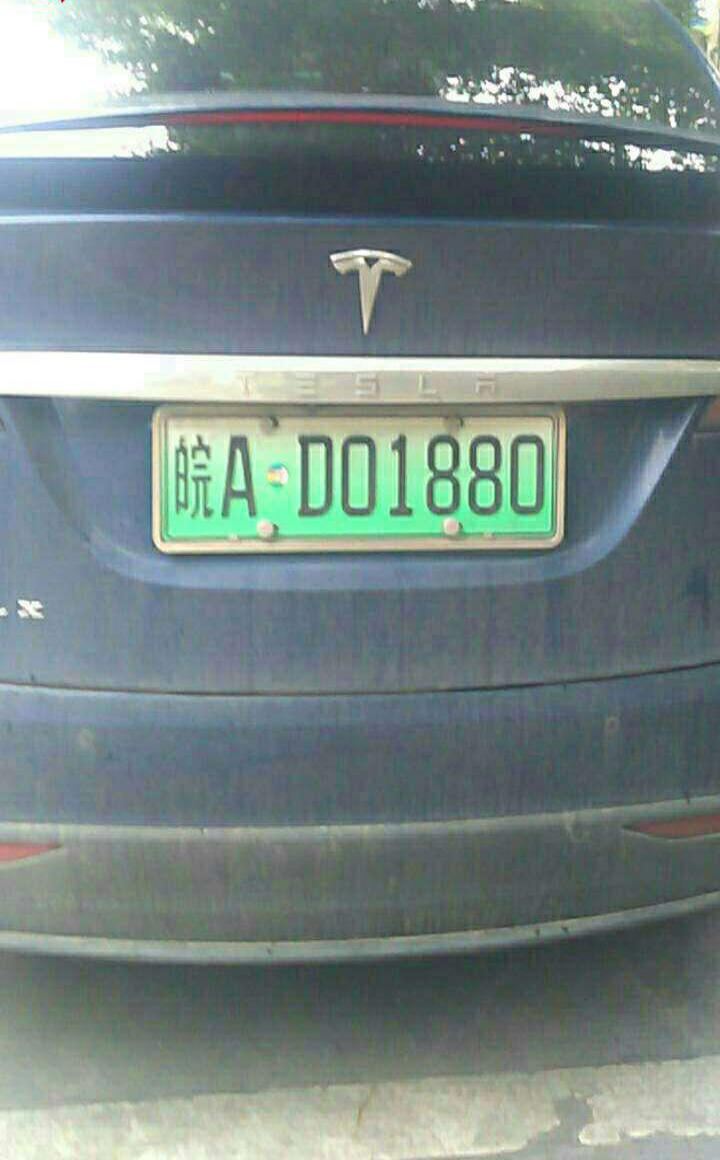car_id: (168, 416, 551, 535)
